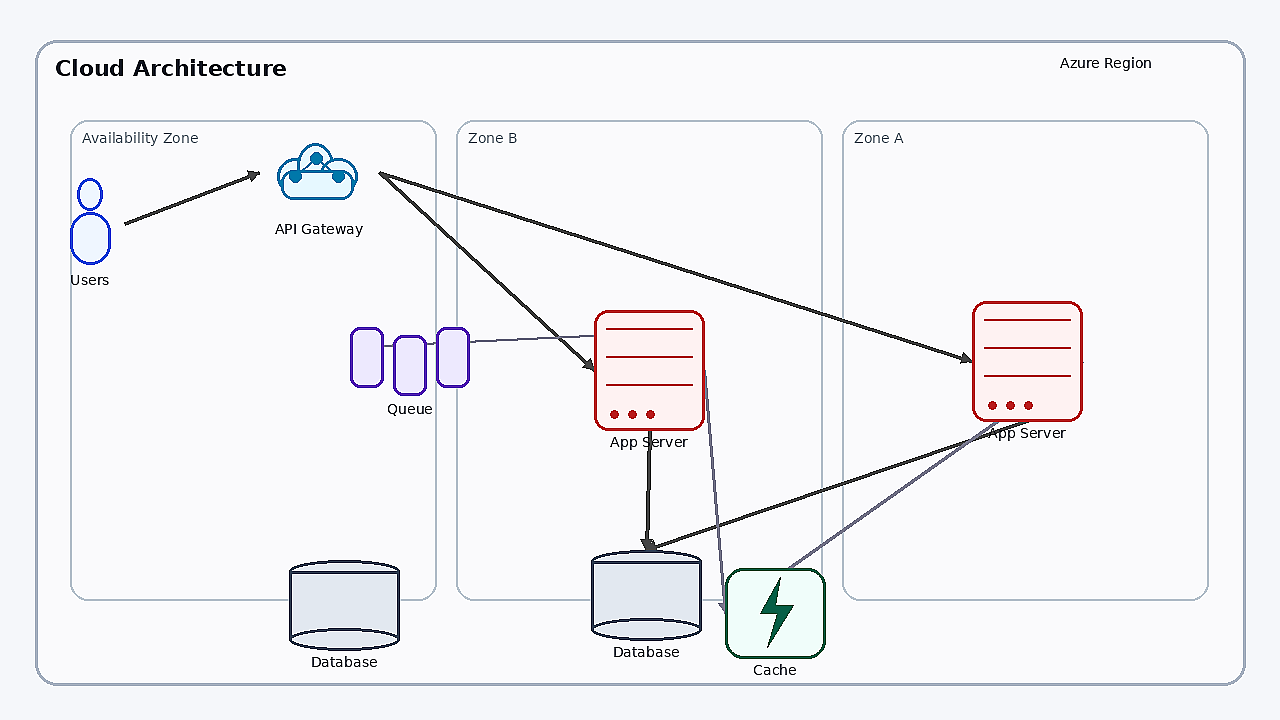API Gateway: (259, 127, 379, 217)
Application Server: (972, 301, 1082, 421), (594, 310, 704, 430)
Cache: (725, 568, 825, 658)
Database: (289, 560, 399, 650), (591, 550, 701, 640)
Message Queue: (350, 327, 470, 397)
User: (55, 178, 125, 268)
